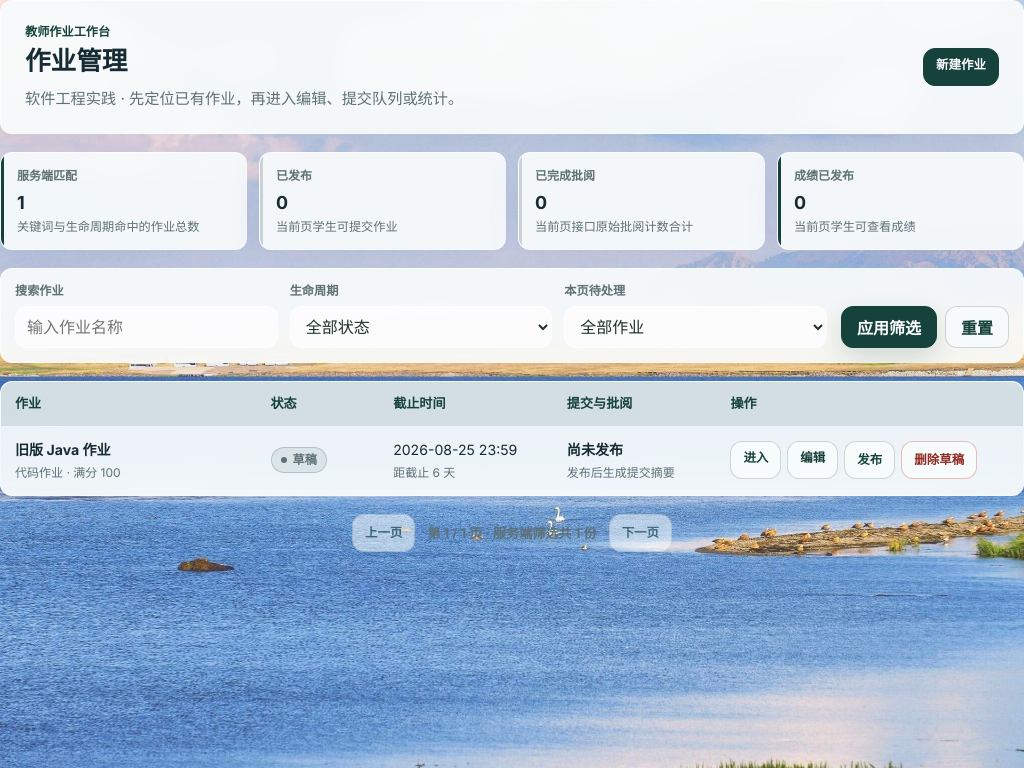
Test: HomeworkTeacherView › blocks direct publication of a legacy CODE draft that still enables unsupported sandbox languages
Click the button with test id "publish-homework-6" at (870, 460), box [844,441,895,479]
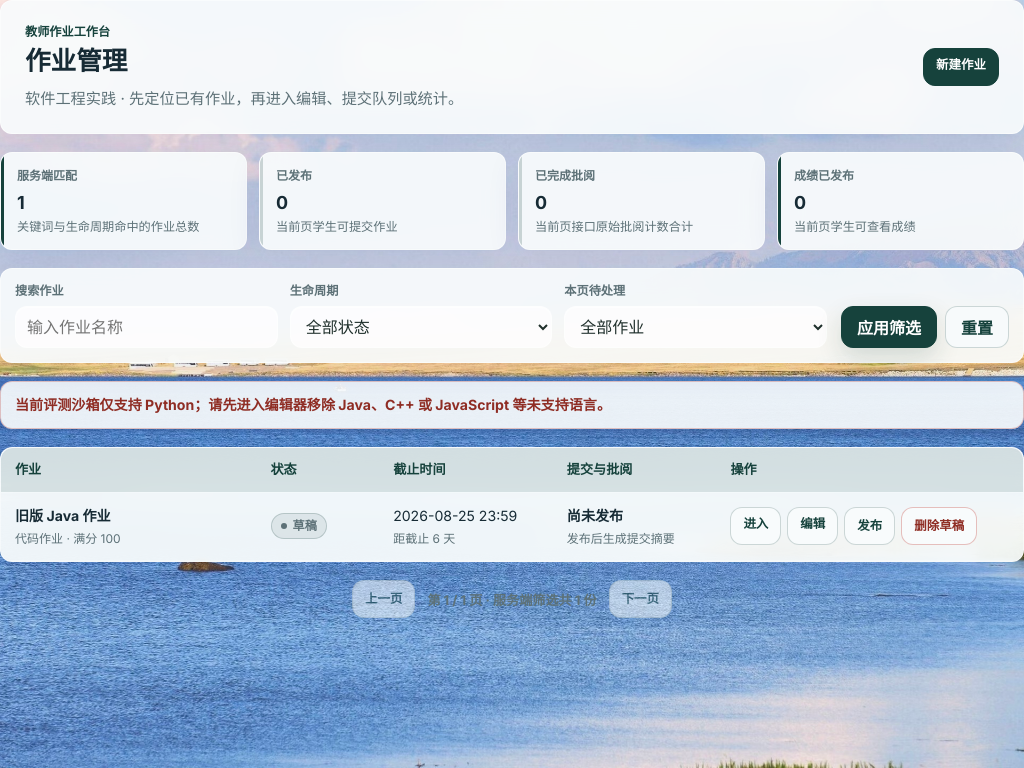
Expected: the message with test id "operation-error" shows "Python", [15,396,611,413]
Expected: the message with test id "operation-error" shows "移除", [0,381,1023,429]
